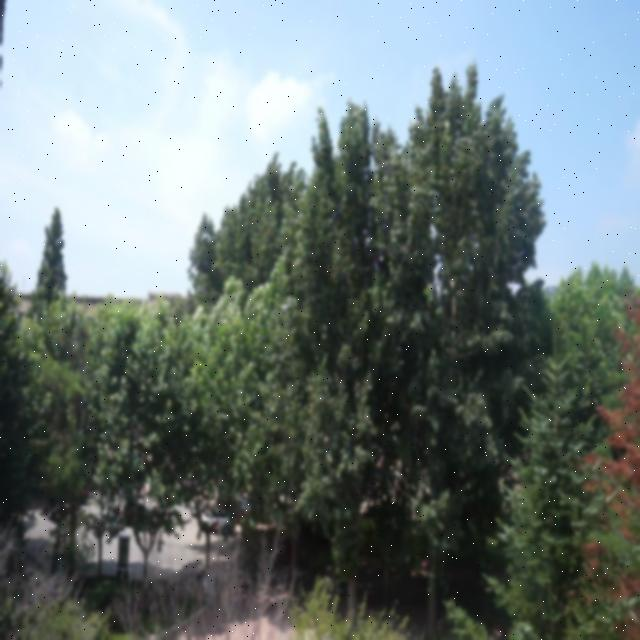UAV: (280, 304, 290, 312)
